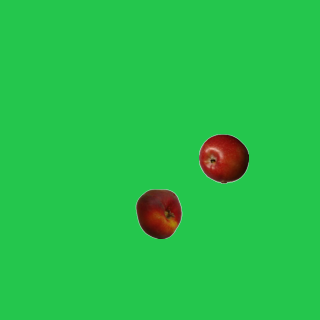Apple Braeburn: (198, 133, 248, 183)
Nectarine Flat: (133, 188, 183, 238)
